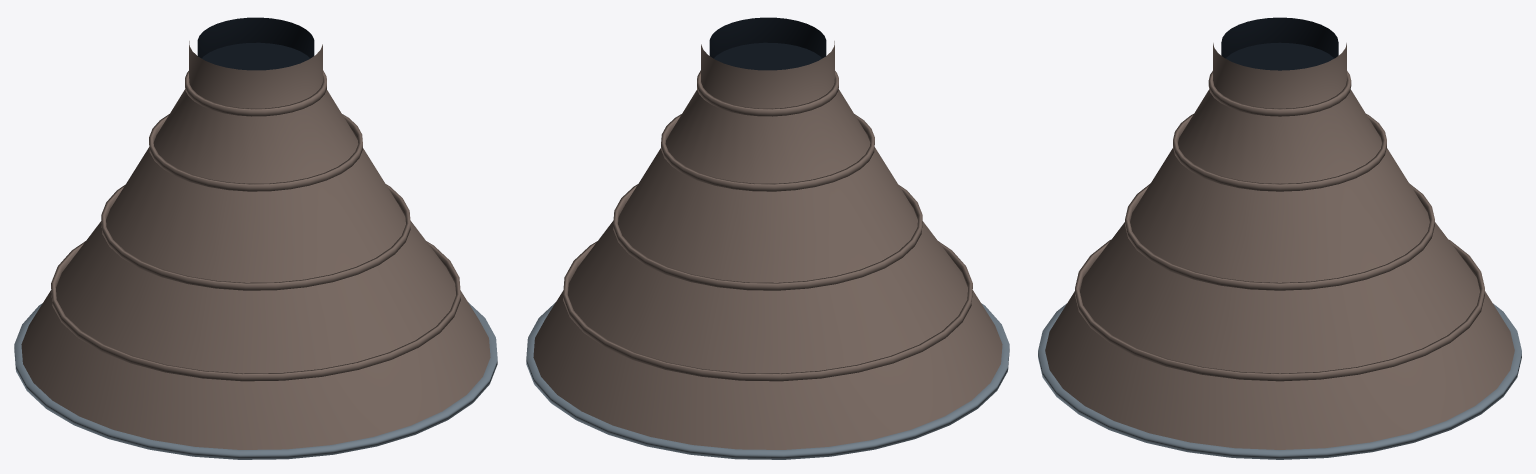
The model's file is orion_esm_main_engine.glb.
3 views of the same model, side by side, from view 1: azimuth 30°, elevation 25°; view 2: azimuth 150°, elevation 25°; view 3: azimuth 270°, elevation 25° (orthographic).
Parts seen in each view (by area): view 1: orion_esmmain_enginebellmesh_Heat-stained_alloy, orion_esmmain_enginebellmesh_Machined_steel, orion_esmmain_enginebellmesh_Shadowed_interior; view 2: orion_esmmain_enginebellmesh_Heat-stained_alloy, orion_esmmain_enginebellmesh_Machined_steel, orion_esmmain_enginebellmesh_Shadowed_interior; view 3: orion_esmmain_enginebellmesh_Heat-stained_alloy, orion_esmmain_enginebellmesh_Machined_steel, orion_esmmain_enginebellmesh_Shadowed_interior.
Part boxes in pixels (x1,y1,x2,y2): orion_esmmain_enginebellmesh_Heat-stained_alloy: [21, 41, 490, 449]; orion_esmmain_enginebellmesh_Machined_steel: [14, 302, 497, 459]; orion_esmmain_enginebellmesh_Shadowed_interior: [197, 17, 314, 70]; orion_esmmain_enginebellmesh_Heat-stained_alloy: [533, 41, 1002, 449]; orion_esmmain_enginebellmesh_Machined_steel: [526, 302, 1009, 459]; orion_esmmain_enginebellmesh_Shadowed_interior: [709, 17, 826, 70]; orion_esmmain_enginebellmesh_Heat-stained_alloy: [1045, 43, 1514, 449]; orion_esmmain_enginebellmesh_Machined_steel: [1038, 303, 1521, 459]; orion_esmmain_enginebellmesh_Shadowed_interior: [1221, 17, 1338, 70].
Bounding box in the file's own units: 1.6 × 1.15 × 1.6.
